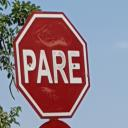Pare: (12, 8, 90, 120)
